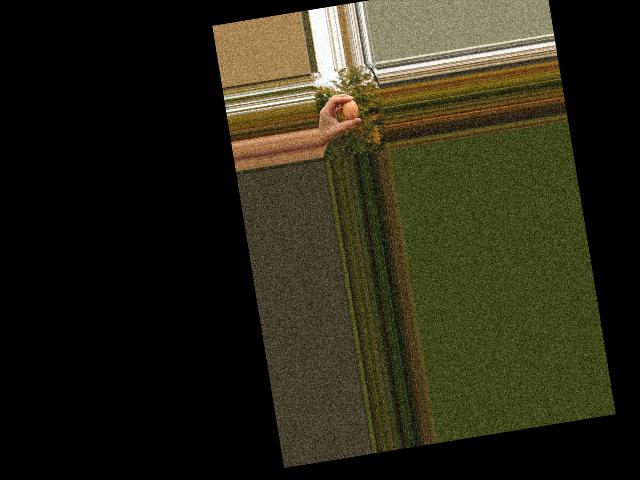egg: (341, 98, 359, 121)
